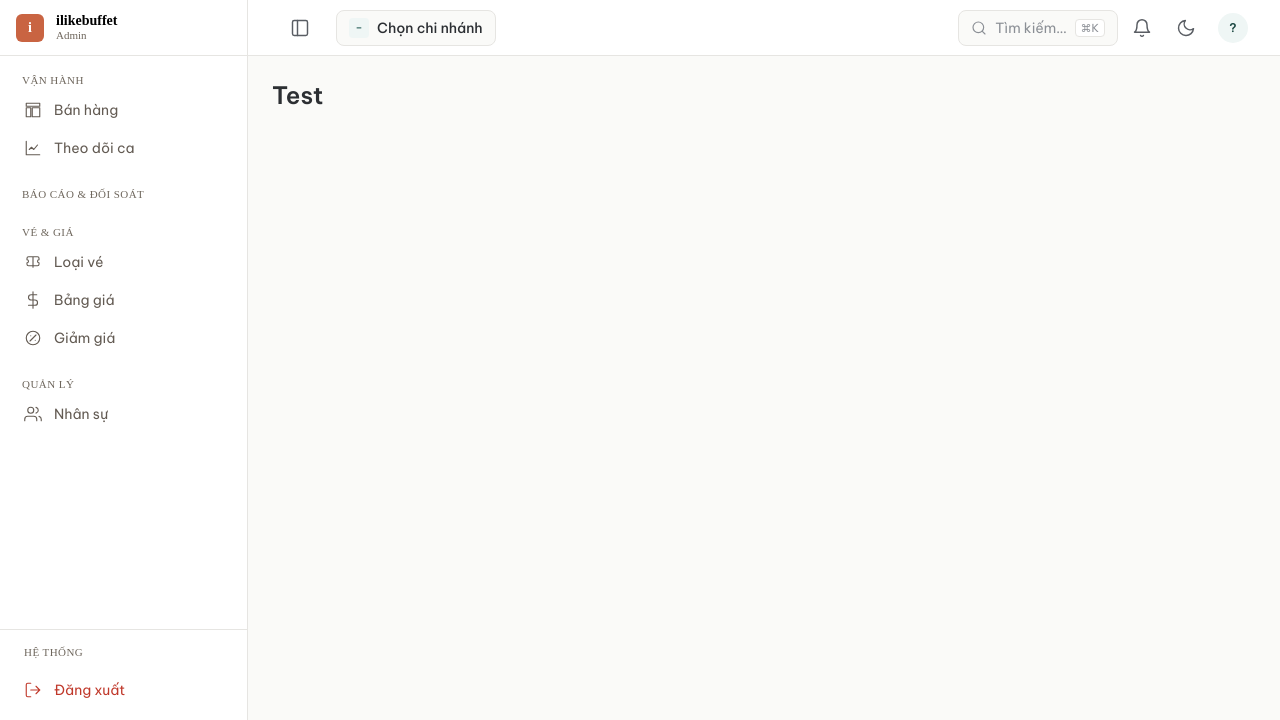
it: AdminShell desktop rail toggle › toggle button label flips to 'Mở rộng thanh bên' after collapsing
Click the button named "Thu gọn thanh bên": (300, 28) [280,8,320,48]
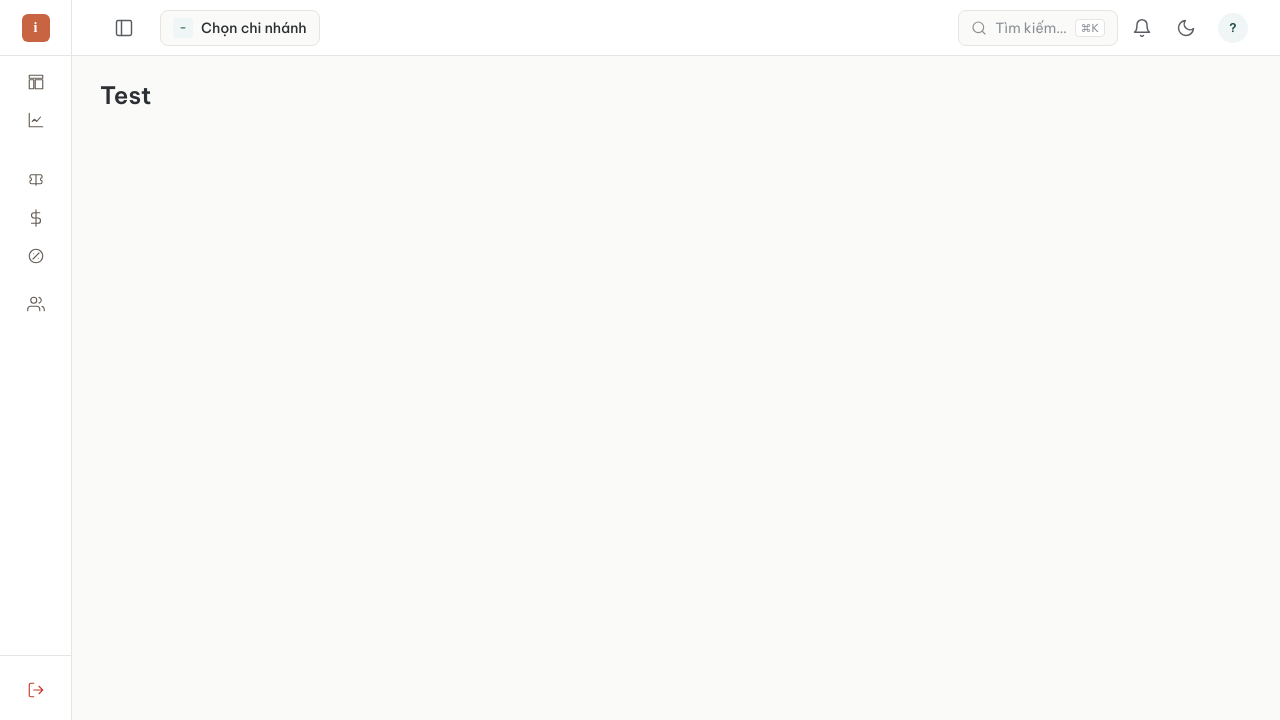
Expected: the button named "Mở rộng thanh bên" is shown, [104,8,144,48]
